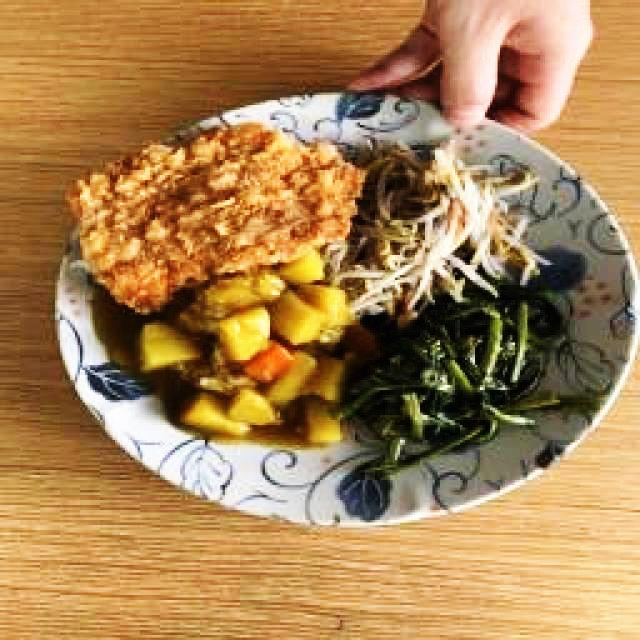curry: (138, 252, 346, 445)
fried_chicken: (71, 126, 362, 307)
mung_bean_sprouts: (357, 145, 535, 306)
water_spinach: (355, 304, 539, 459)
